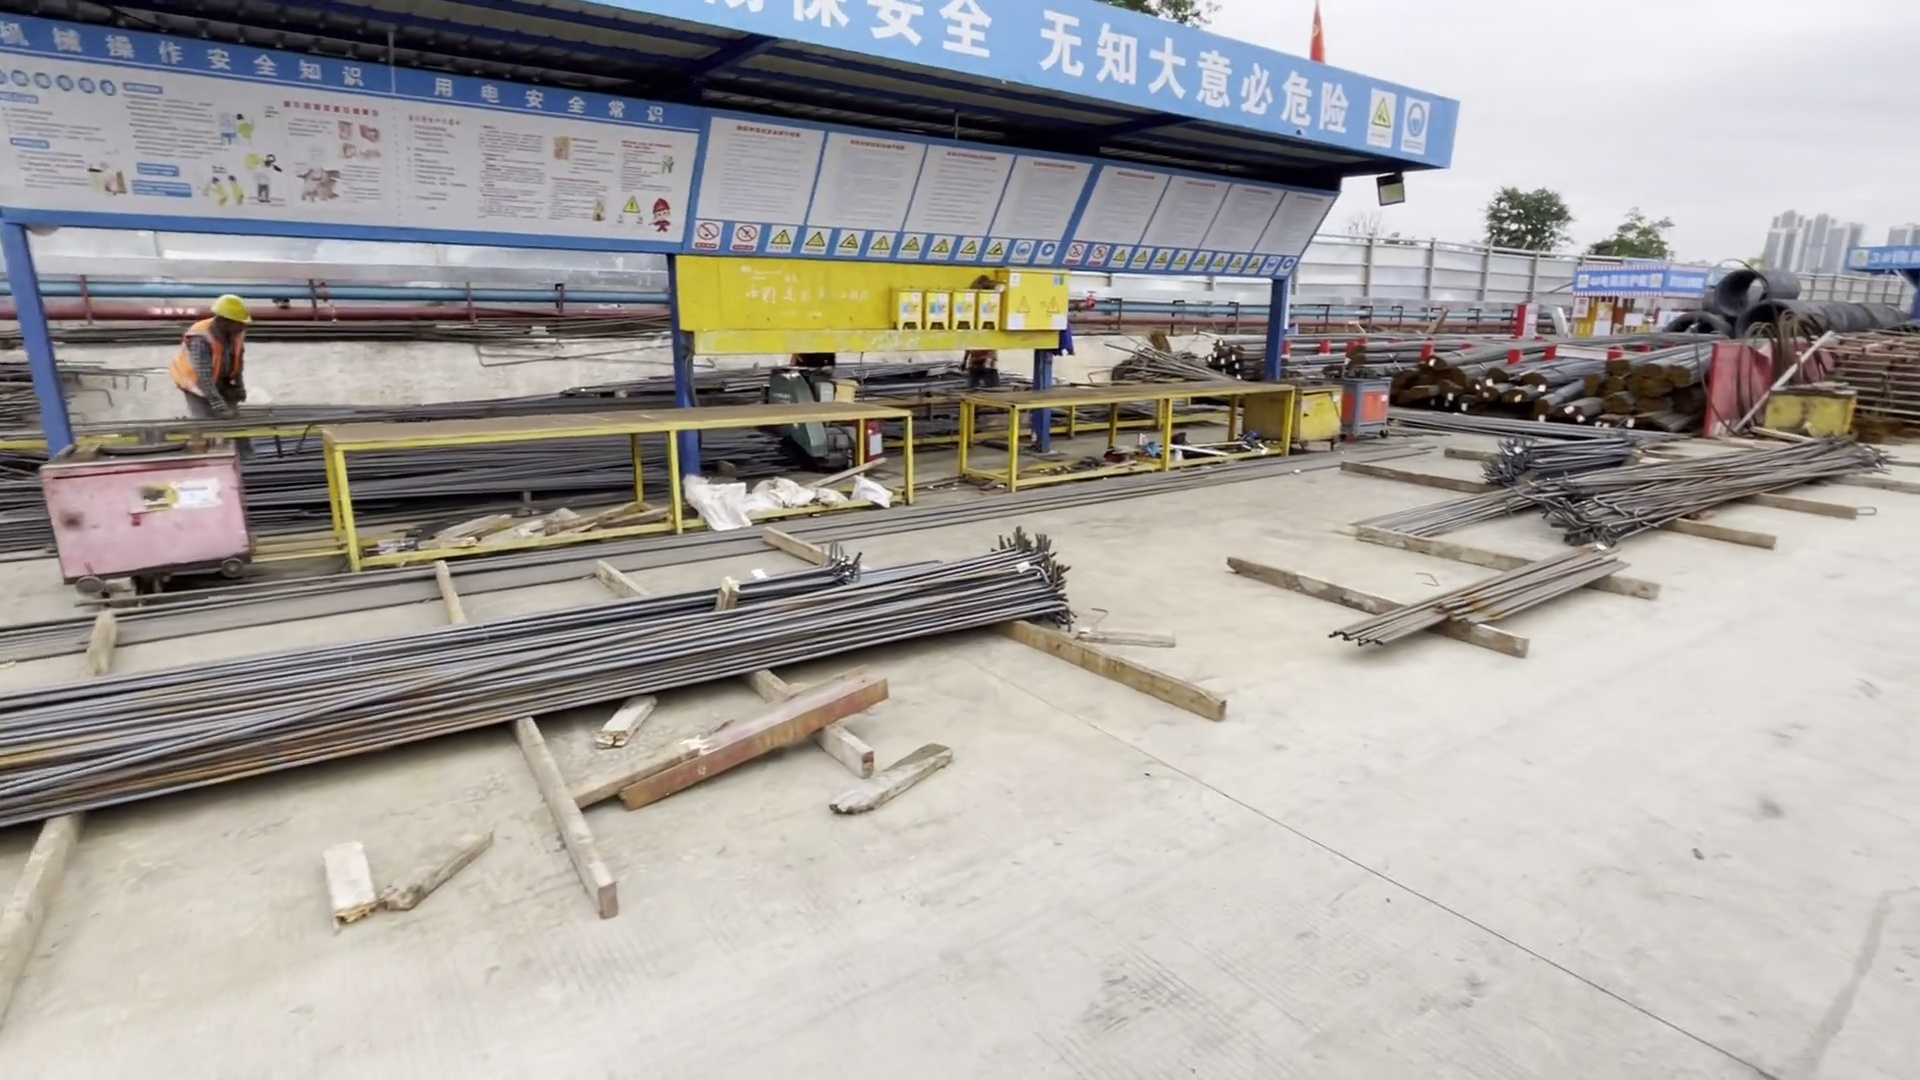ebox: (869, 270, 1076, 342)
helmet: (209, 293, 256, 321)
person: (169, 286, 245, 429)
rebar: (1, 517, 1098, 830), (1329, 432, 1891, 652), (1188, 335, 1712, 419)
slogan: (1, 1, 1484, 284)
vest: (172, 321, 226, 392)
